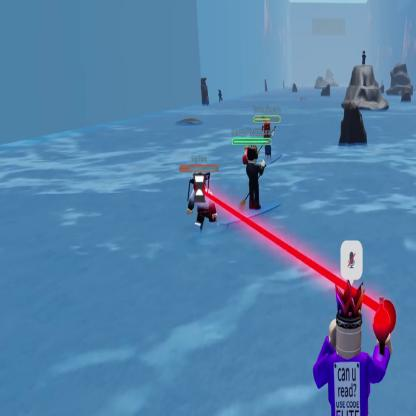Roblox-Avatar: (315, 280, 394, 416), (188, 173, 219, 235), (247, 146, 266, 211), (263, 122, 276, 164)
